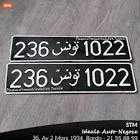audi: (7, 65, 137, 93), (12, 34, 132, 61)
